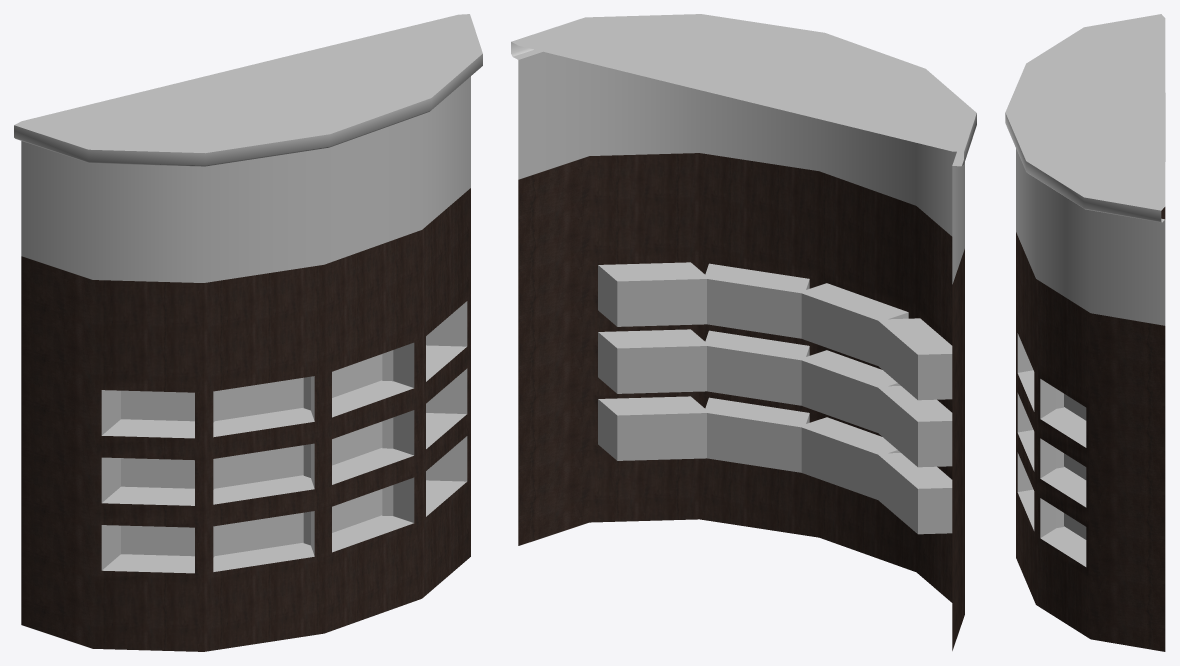
The model's file is SM_LobbyandHotel_WallProp_1.FBX.
The picture shows the model from 3 angles, left to right: view 1: azimuth 30°, elevation 25°; view 2: azimuth 150°, elevation 25°; view 3: azimuth 270°, elevation 25°; orthographic projection. The views are drawn at different scales.
Visible parts, largest first — view 1: SM_LobbyandHotel_WallProp_1; view 2: SM_LobbyandHotel_WallProp_1; view 3: SM_LobbyandHotel_WallProp_1.
Part boxes in pixels (left/top/right/bottom): SM_LobbyandHotel_WallProp_1: left=14, top=14, right=482, bottom=651; SM_LobbyandHotel_WallProp_1: left=511, top=14, right=976, bottom=650; SM_LobbyandHotel_WallProp_1: left=1005, top=14, right=1165, bottom=651.
Bounding box in the file's own units: 4.4 × 4.64 × 1.51.
